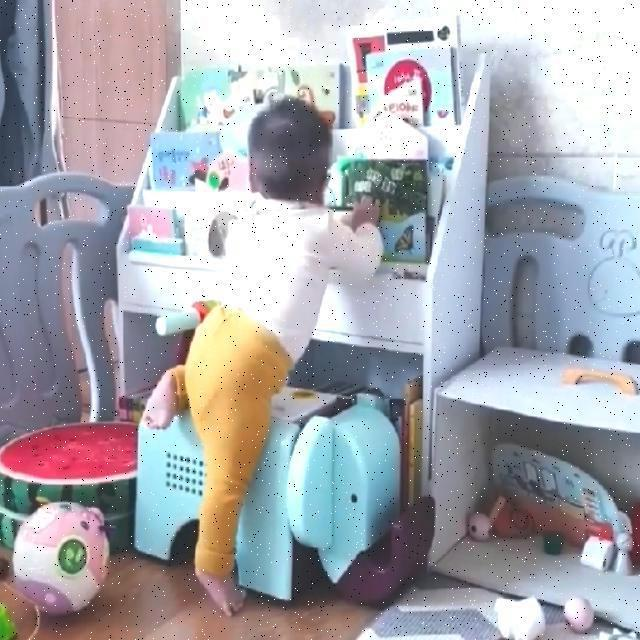child: (149, 107, 385, 623)
